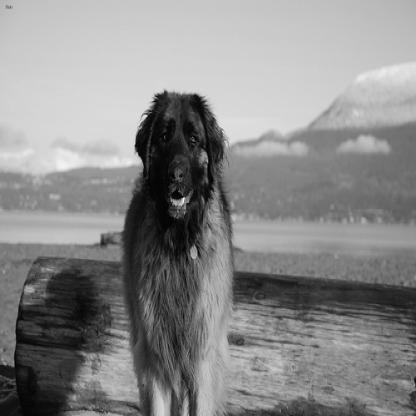Leonberger: (100, 67, 262, 415)
